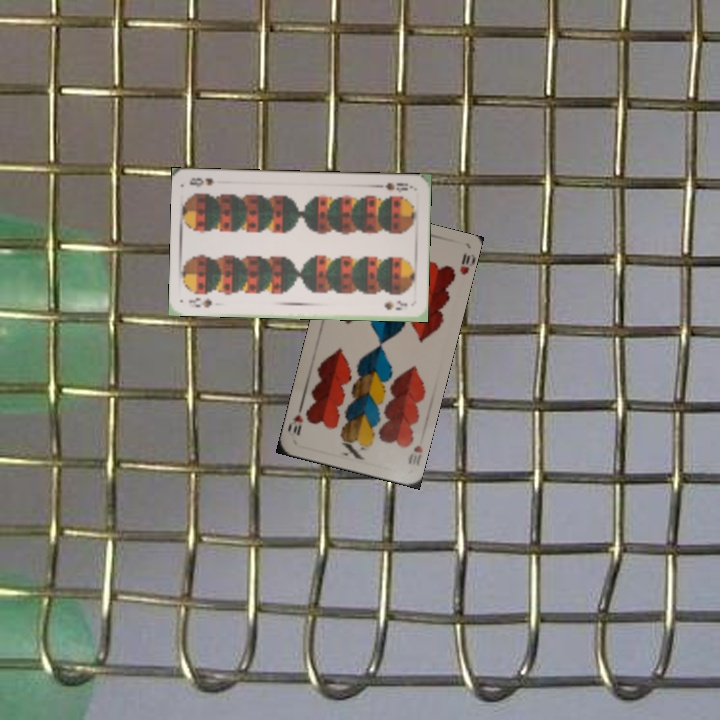H10: (403, 441, 425, 467)
S8: (374, 179, 415, 195), (185, 294, 214, 310)
